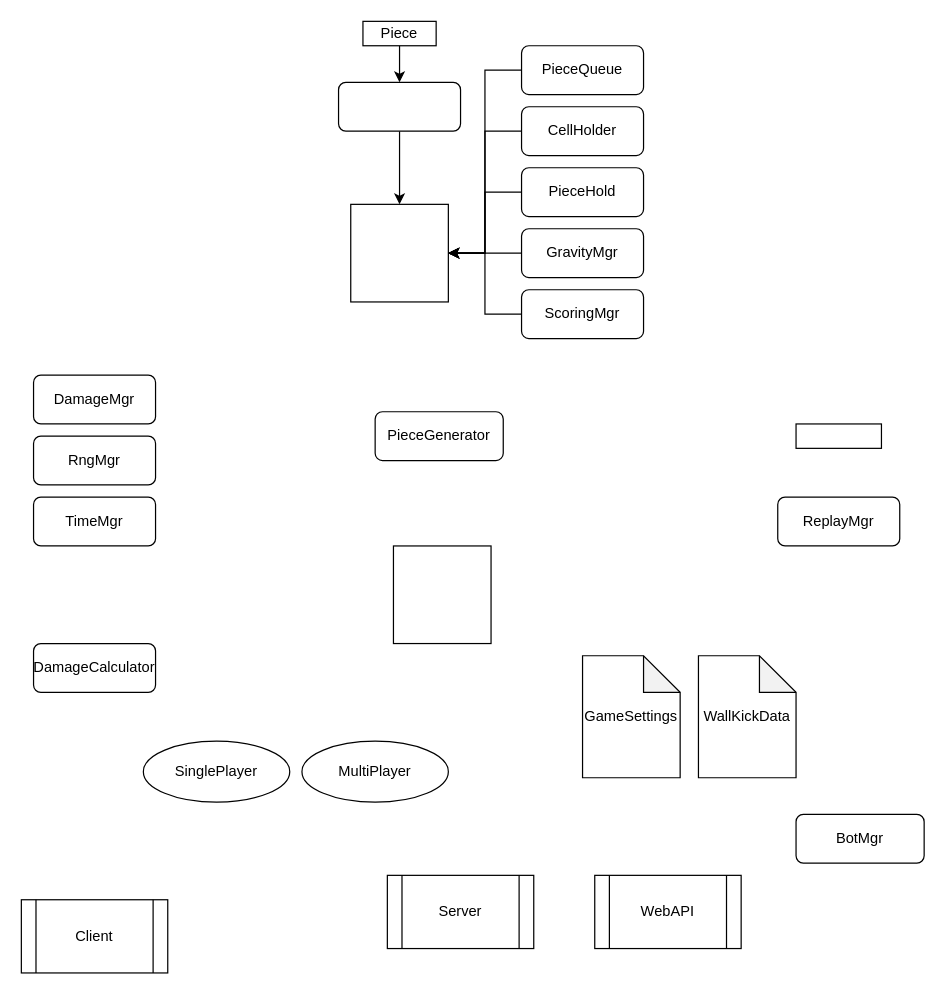
Image size: 946x994. Some labels were removed from this diagram. The shapes that lost their labels are listed below. From the top down, each one's centre as x and y in pixels, then its label:
At (x=399, y=106): "PieceMgr".
At (x=399, y=252): "Board".
At (x=838, y=435): "Replay".
At (x=441, y=594): "Command Dispatcher".
